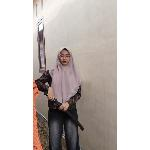Pedang: (42, 90, 86, 130)
